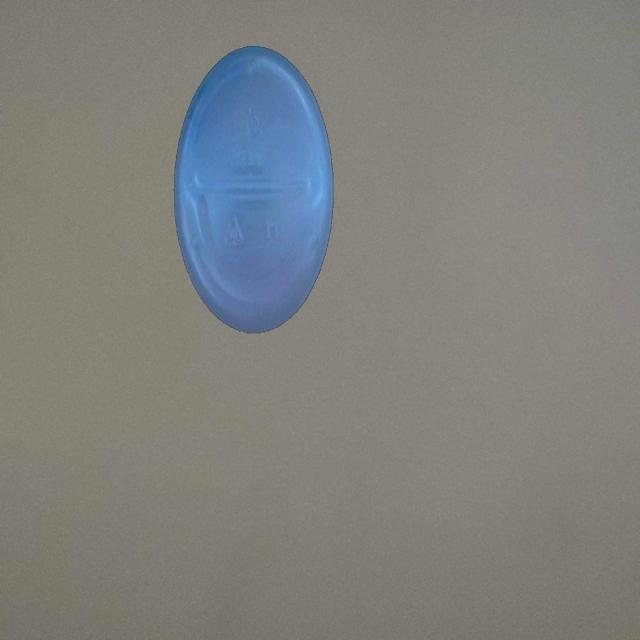bottle: (172, 42, 334, 340)
